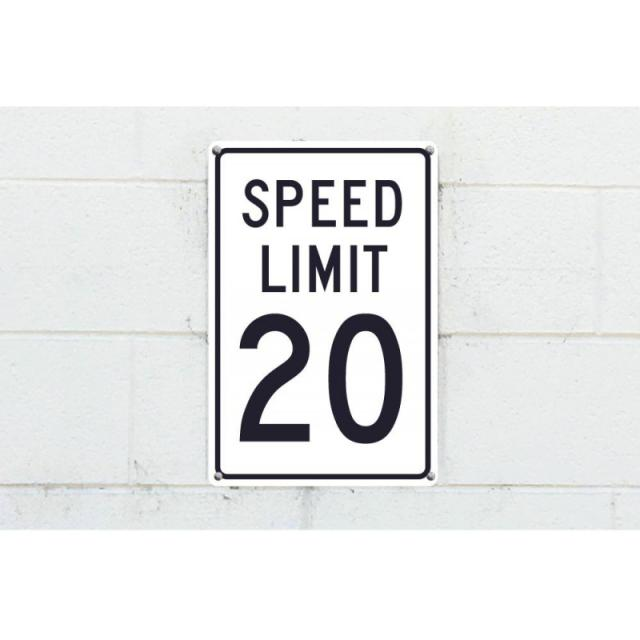speedLimit20: (204, 141, 442, 488)
